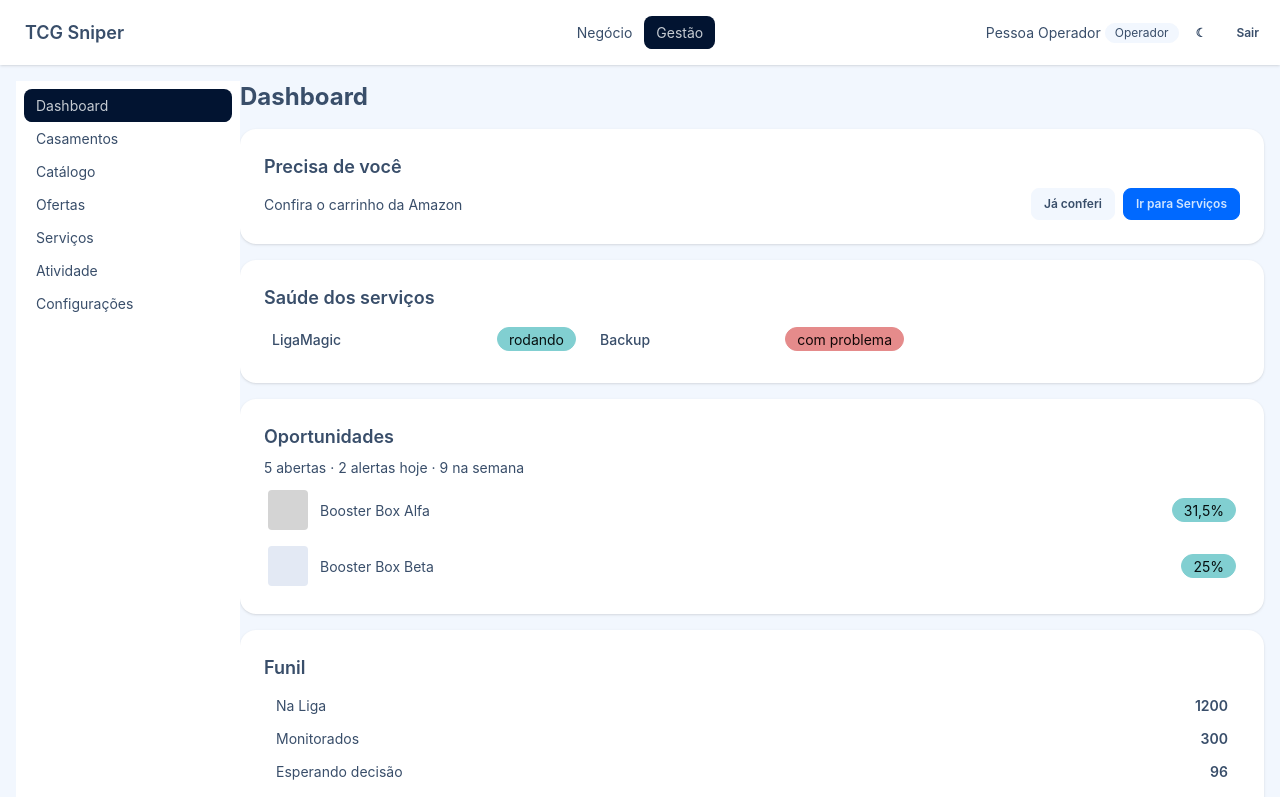
it: Dashboard da gestão › ação do item (Já conferi do carrinho) › com pausar_servicos o botão faz o POST e recarrega o Dashboard
Click the button "Já conferi". click: (1073, 204)
box: [1031,188,1115,220]
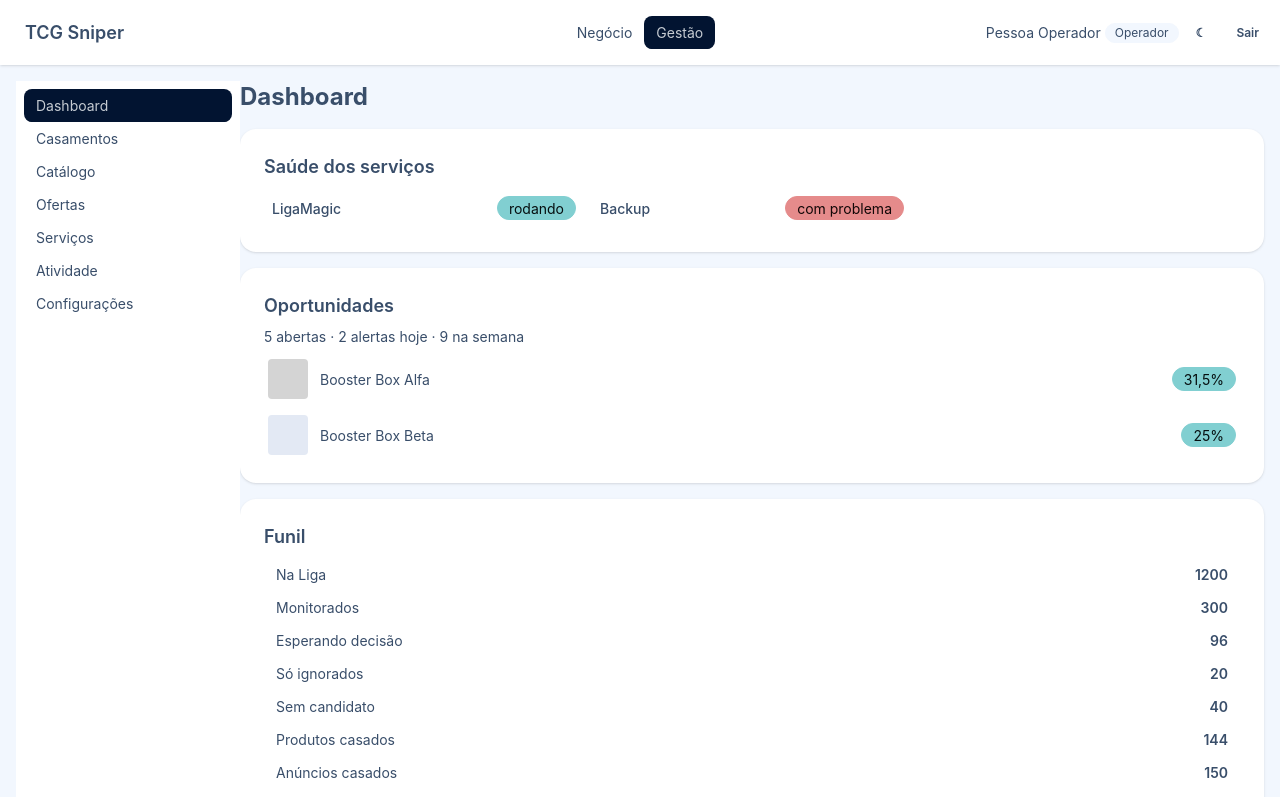
Result: the text "Confira o carrinho da Amazon" is gone
